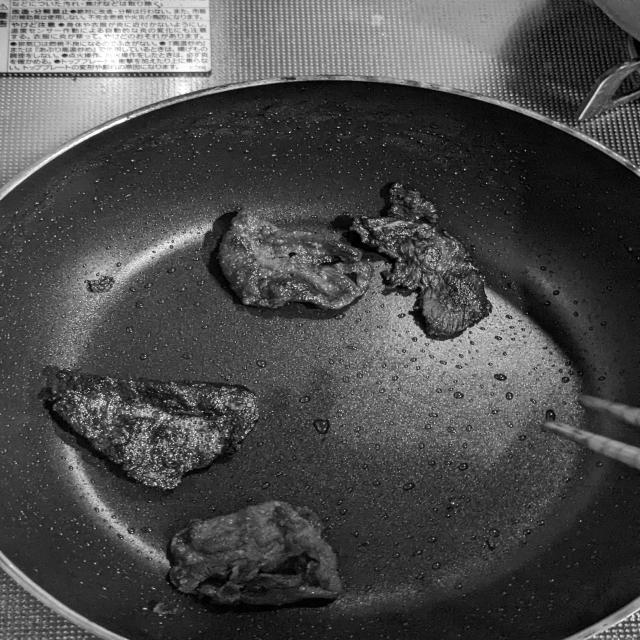overcooked beef,: (50, 361, 266, 505), (347, 176, 509, 350)
overcooked pork: (151, 496, 351, 611), (204, 208, 385, 322)
